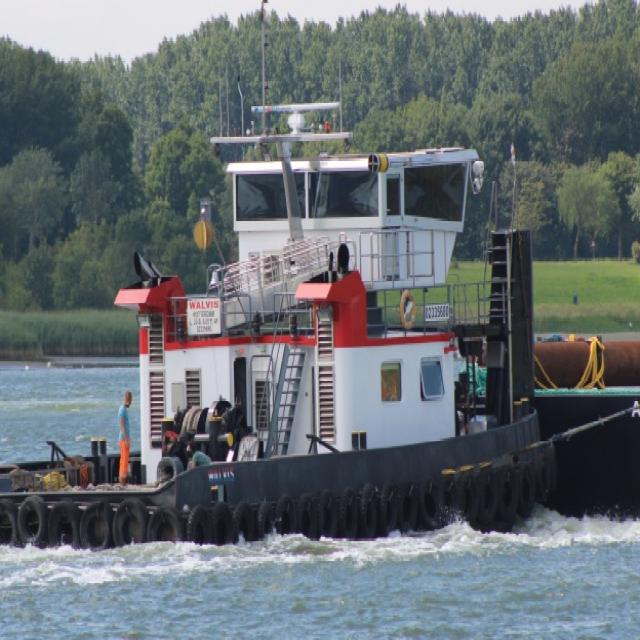tugboat: (1, 98, 558, 578)
